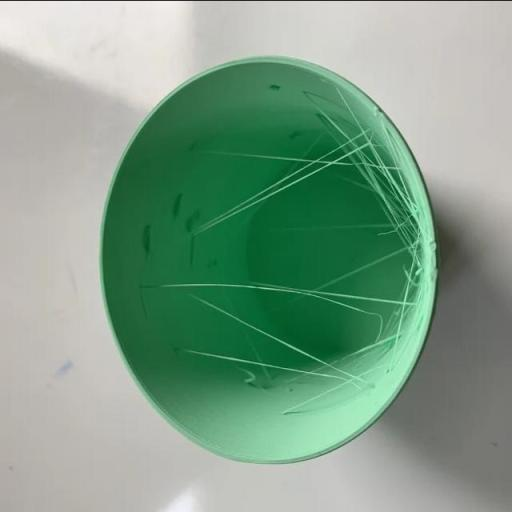stringing: (183, 122, 379, 238), (315, 102, 426, 263), (191, 291, 361, 387), (160, 275, 418, 311)
